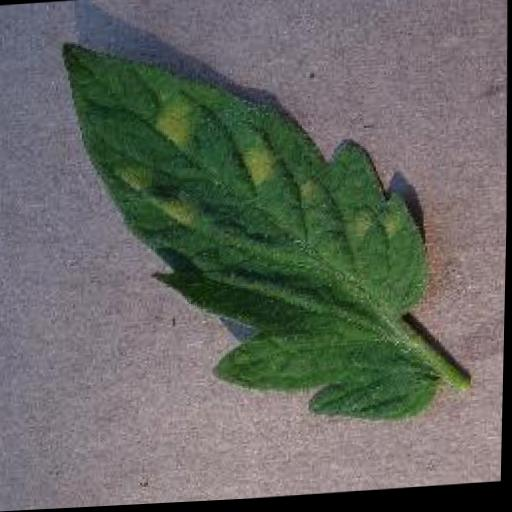Leaf Mold: (57, 15, 452, 444)
